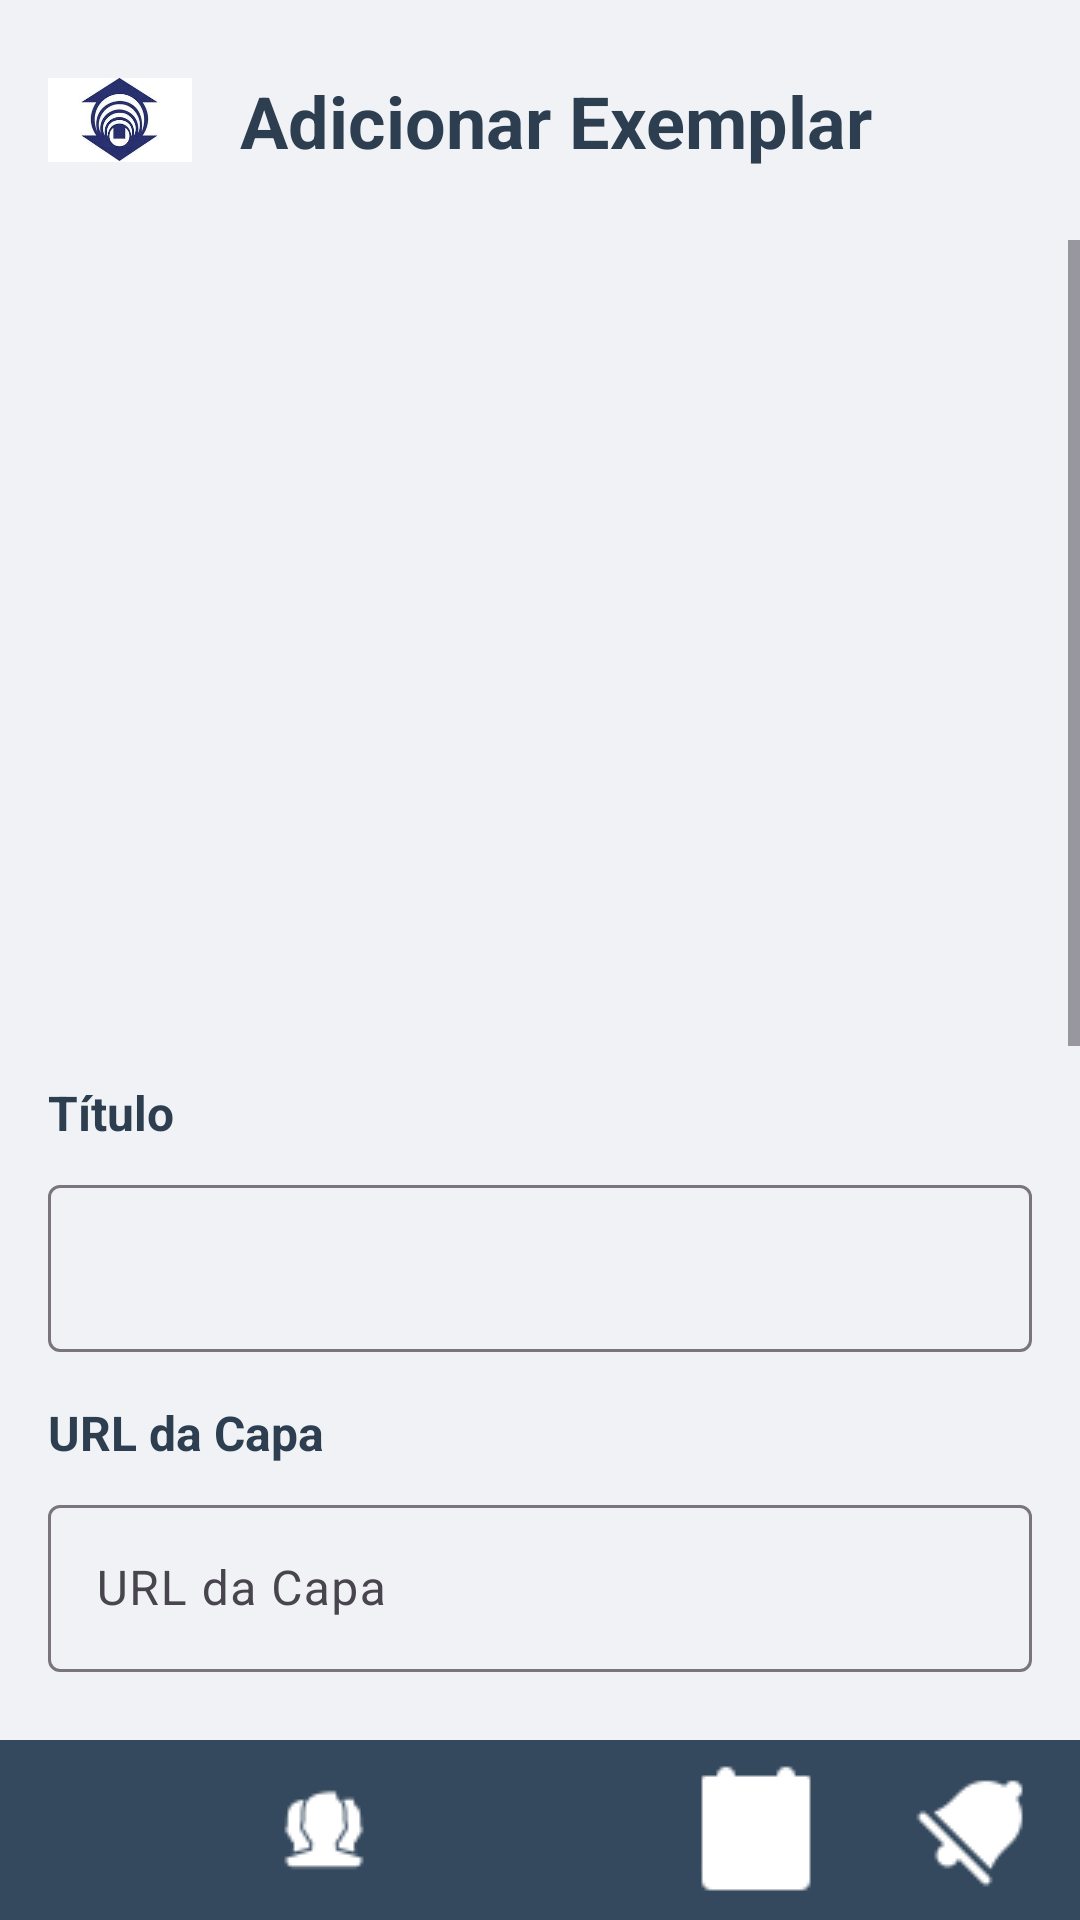

Where icons sit on this 1080*1920 app screen, as (x1, y1, x2, y2):
Abrir perfil do usuário: (284, 1790, 364, 1869)
Ver eventos: (701, 1766, 811, 1891)
